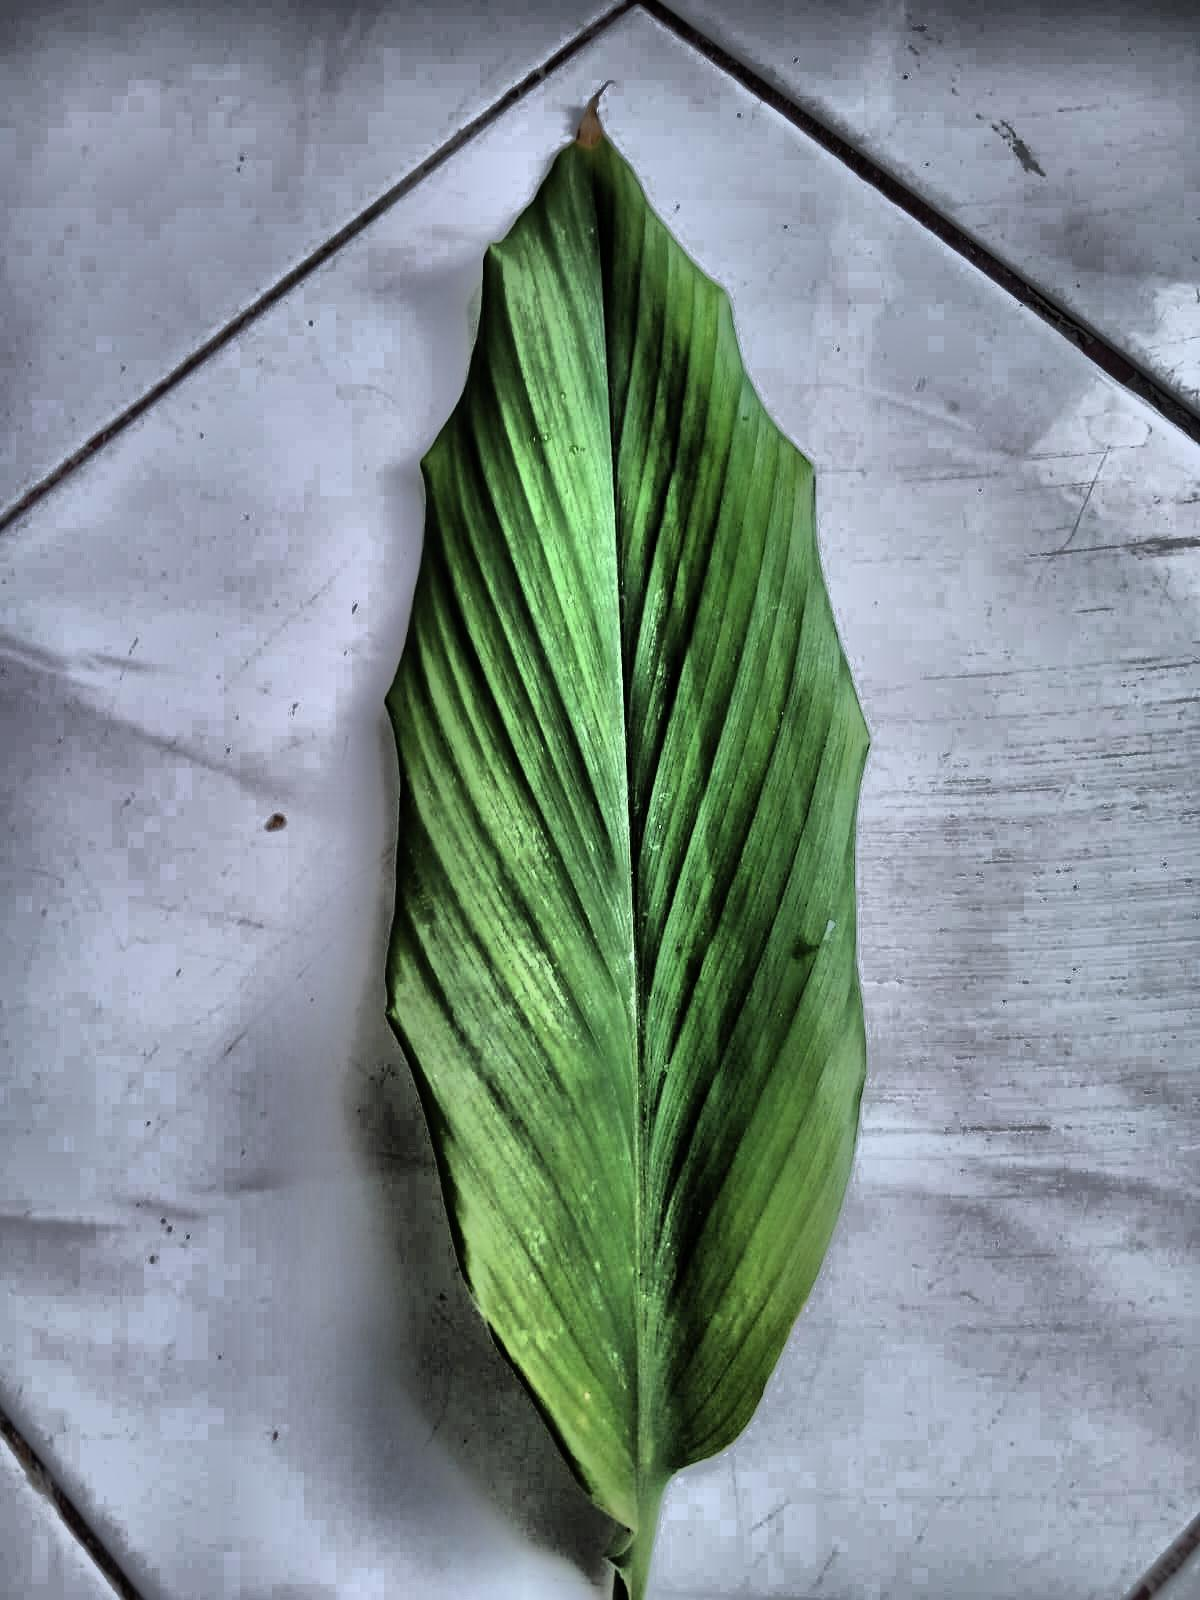daun kunyit: (386, 110, 868, 1599)
